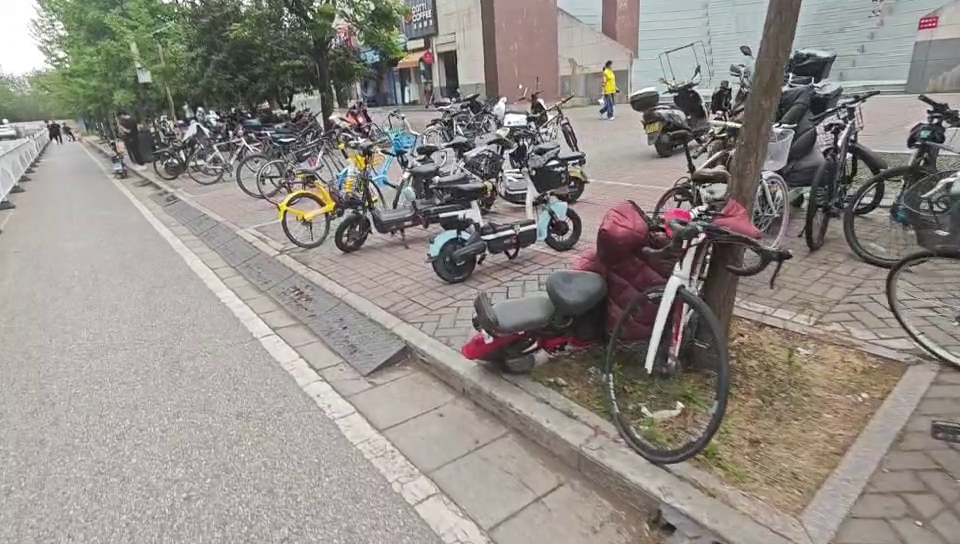others: (617, 174, 761, 461), (428, 134, 581, 272), (859, 83, 945, 256), (805, 80, 873, 261), (626, 40, 712, 153), (184, 119, 267, 181)
shared_bike_haluo: (330, 107, 424, 207)
shared_bike_meituan: (287, 135, 393, 247)
